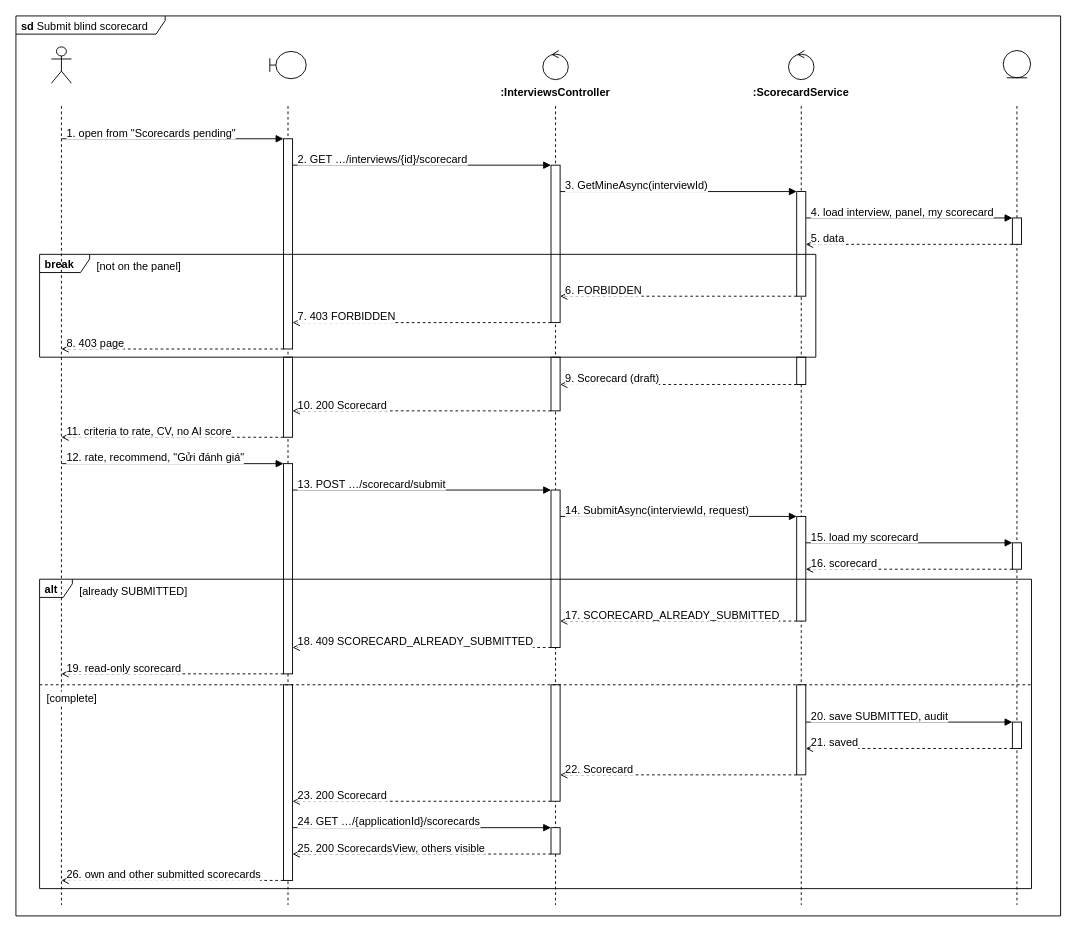
This 1077x932 diagram has some shape labels left out. Here are the shapes that lost their labels. From the top down, the centre of each, then its label:
At pixel 61 64: "Interviewer".
At pixel 287 65: ":Scorecard page".
At pixel 1016 64: ":Database".
